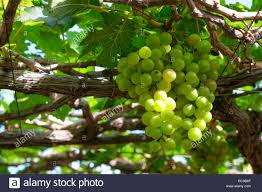grapes: (117, 27, 178, 144), (175, 38, 217, 144)
